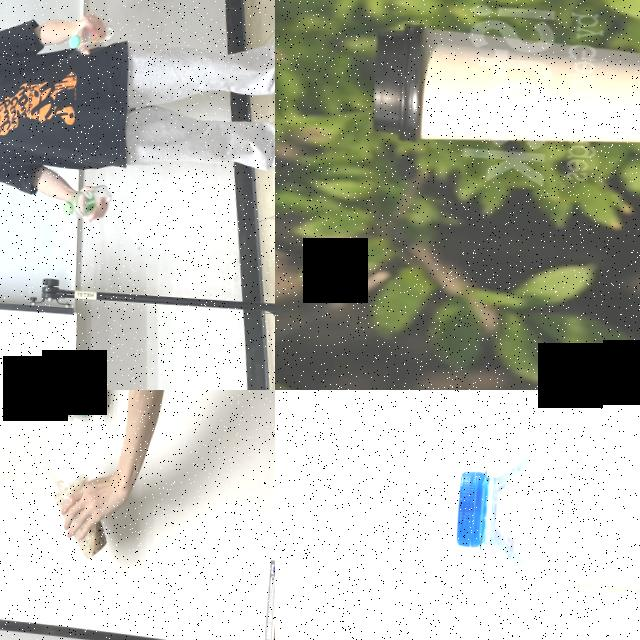bottle: (450, 427, 640, 619), (62, 178, 113, 220), (68, 14, 114, 53)
cup: (364, 18, 640, 162), (48, 468, 112, 560)
